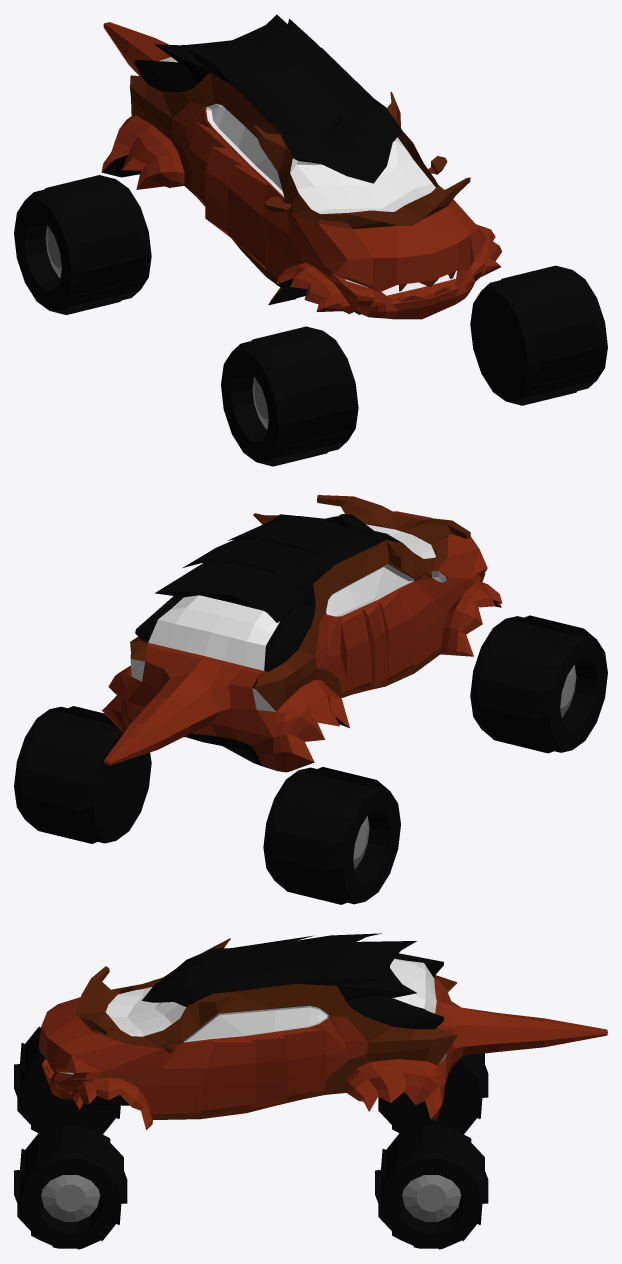
File: Carju_3.fbx
3 views of the same model, one above another, from view 1: azimuth 30°, elevation 25°; view 2: azimuth 150°, elevation 25°; view 3: azimuth 270°, elevation 25° (orthographic). The views are drawn at different scales.
Parts seen in each view (by area): view 1: Carju_0.015, Carju_0.018, Carju_0.016, Carju_0.019; view 2: Carju_0.015, Carju_0.018, Carju_0.019, Carju_0.017; view 3: Carju_0.015, Carju_0.017, Carju_0.016, Carju_0.018, Carju_0.019.
Part boxes in pixels (x1,y1,x2,y2): Carju_0.015: [101, 14, 502, 319]; Carju_0.018: [221, 326, 358, 466]; Carju_0.016: [470, 265, 607, 405]; Carju_0.019: [14, 175, 151, 314]; Carju_0.015: [102, 495, 502, 772]; Carju_0.018: [470, 615, 607, 753]; Carju_0.019: [263, 767, 400, 904]; Carju_0.017: [14, 706, 151, 843]; Carju_0.015: [38, 933, 607, 1129]; Carju_0.017: [375, 1124, 488, 1249]; Carju_0.016: [14, 1124, 127, 1249]; Carju_0.018: [14, 1026, 120, 1134]; Carju_0.019: [378, 1053, 488, 1134].
Size of the model in its own units: 377 by 290 by 676.
